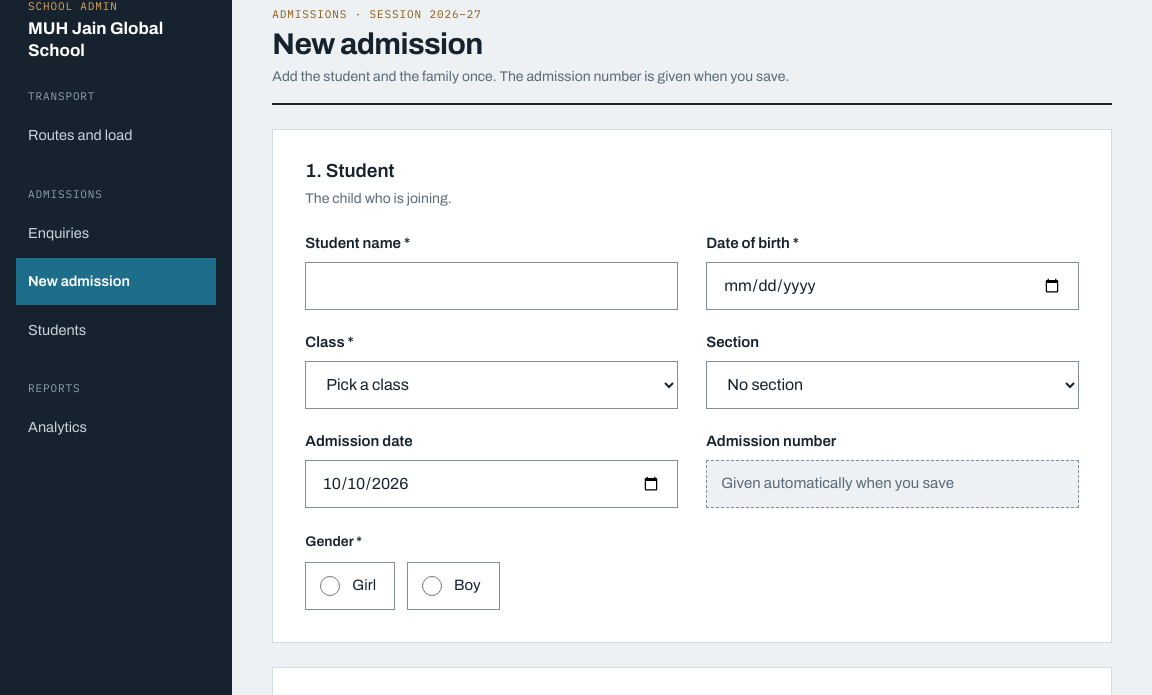
New admission: part 4, Fees › fills the school fee from the class and says so
Select "UKG" in the dropdown labelled "Class *" at (492, 385), box [305, 361, 678, 409]
(page scrolled)
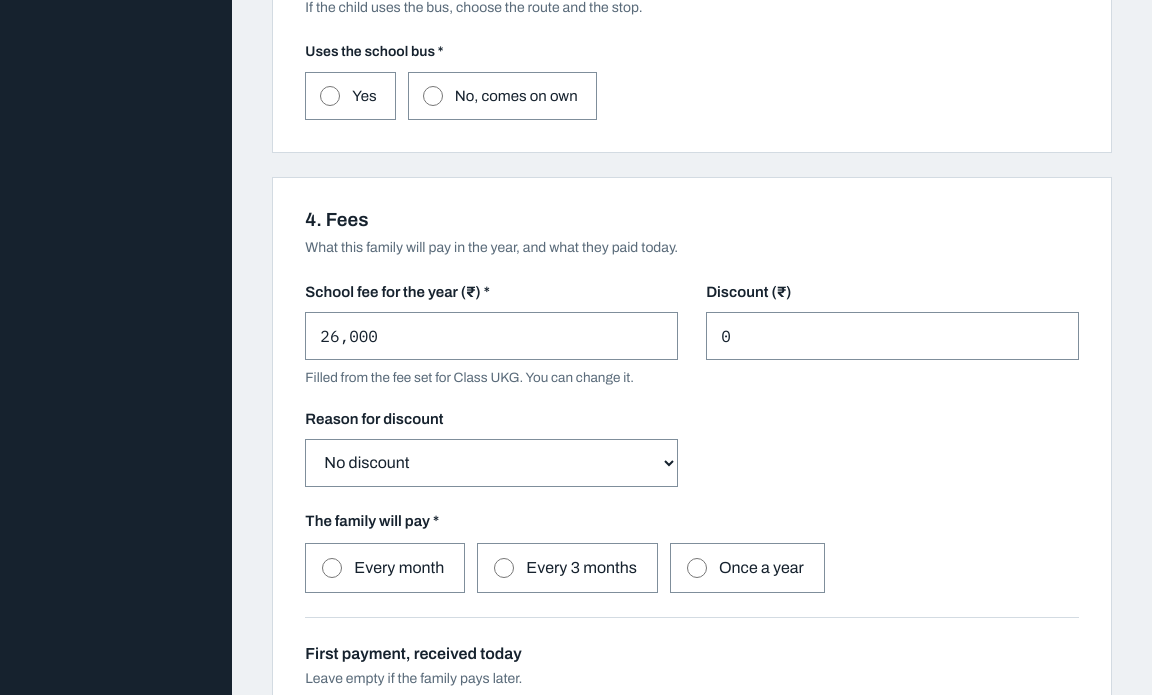
Expected: the field labelled "School fee for the year (₹) *" holds "26,000"
Expected: the text "Filled from the fee set for Class UKG. You can change it." is shown, [305, 368, 678, 387]
Replace the text in the field labelled "School fee for the year (₹) *" with "30000" at (492, 336), box [305, 312, 678, 360]
(page scrolled)
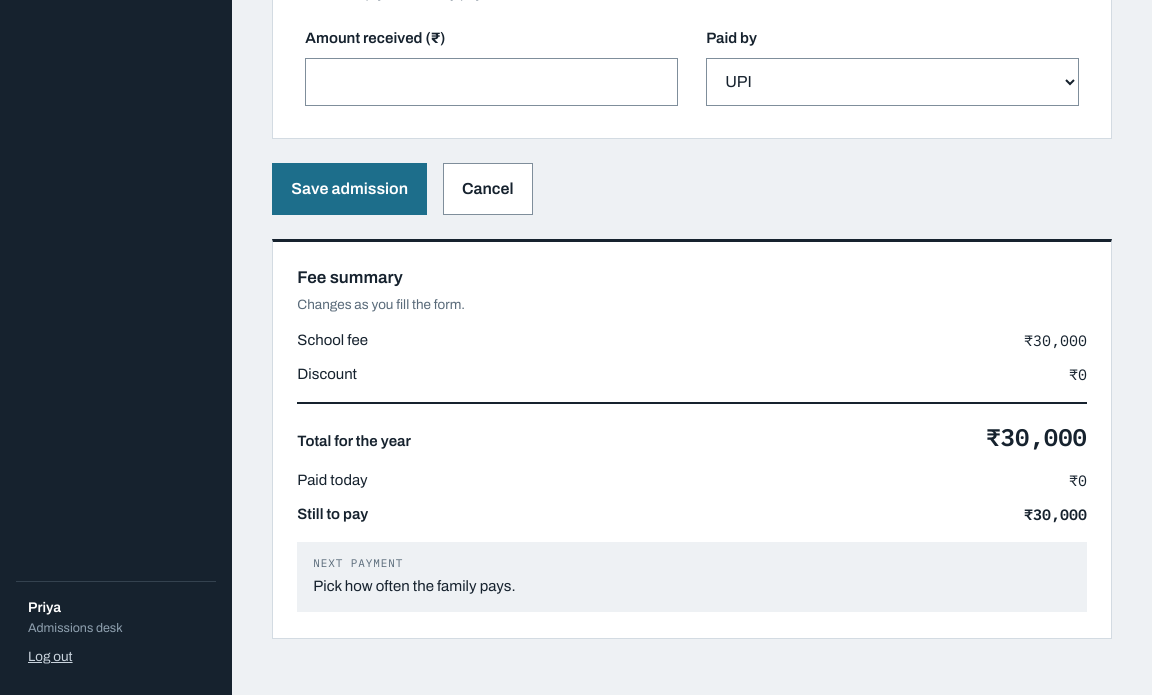
Expected: the 1st text "₹30,000" is shown, [1024, 330, 1087, 352]
